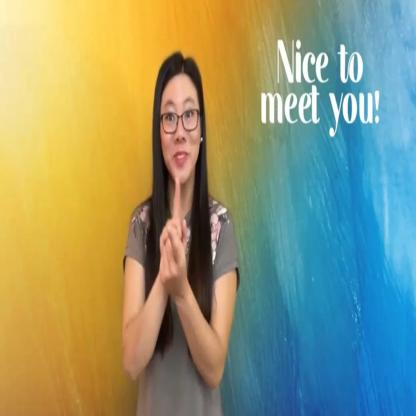NiceToMeetYou: (147, 165, 196, 299)
